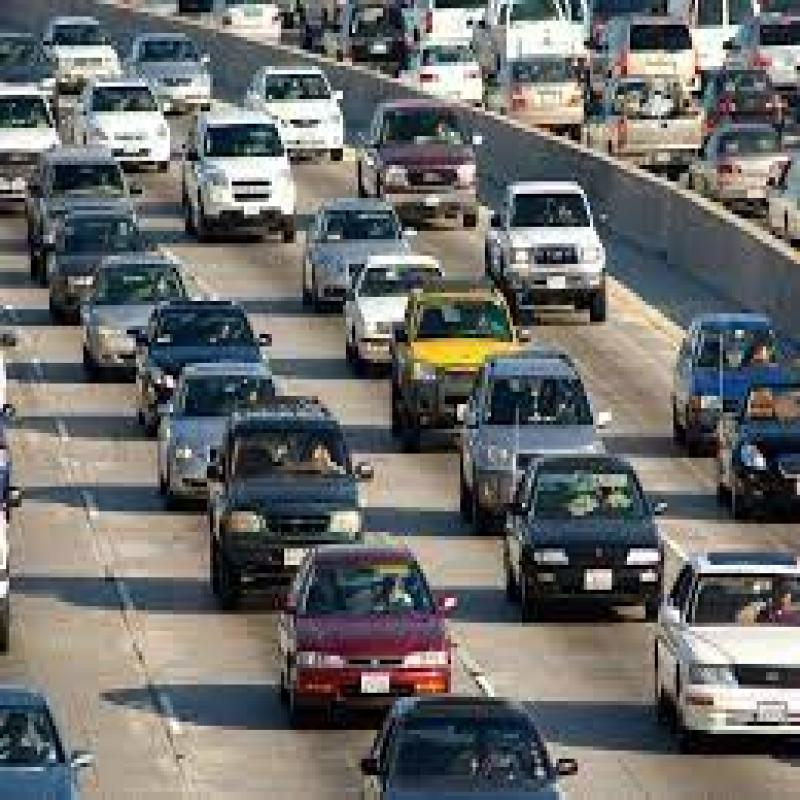car: (197, 398, 366, 597), (271, 539, 446, 719), (668, 517, 800, 745), (516, 452, 661, 631), (385, 292, 534, 449), (495, 171, 626, 337), (142, 354, 290, 488), (182, 99, 311, 244)
